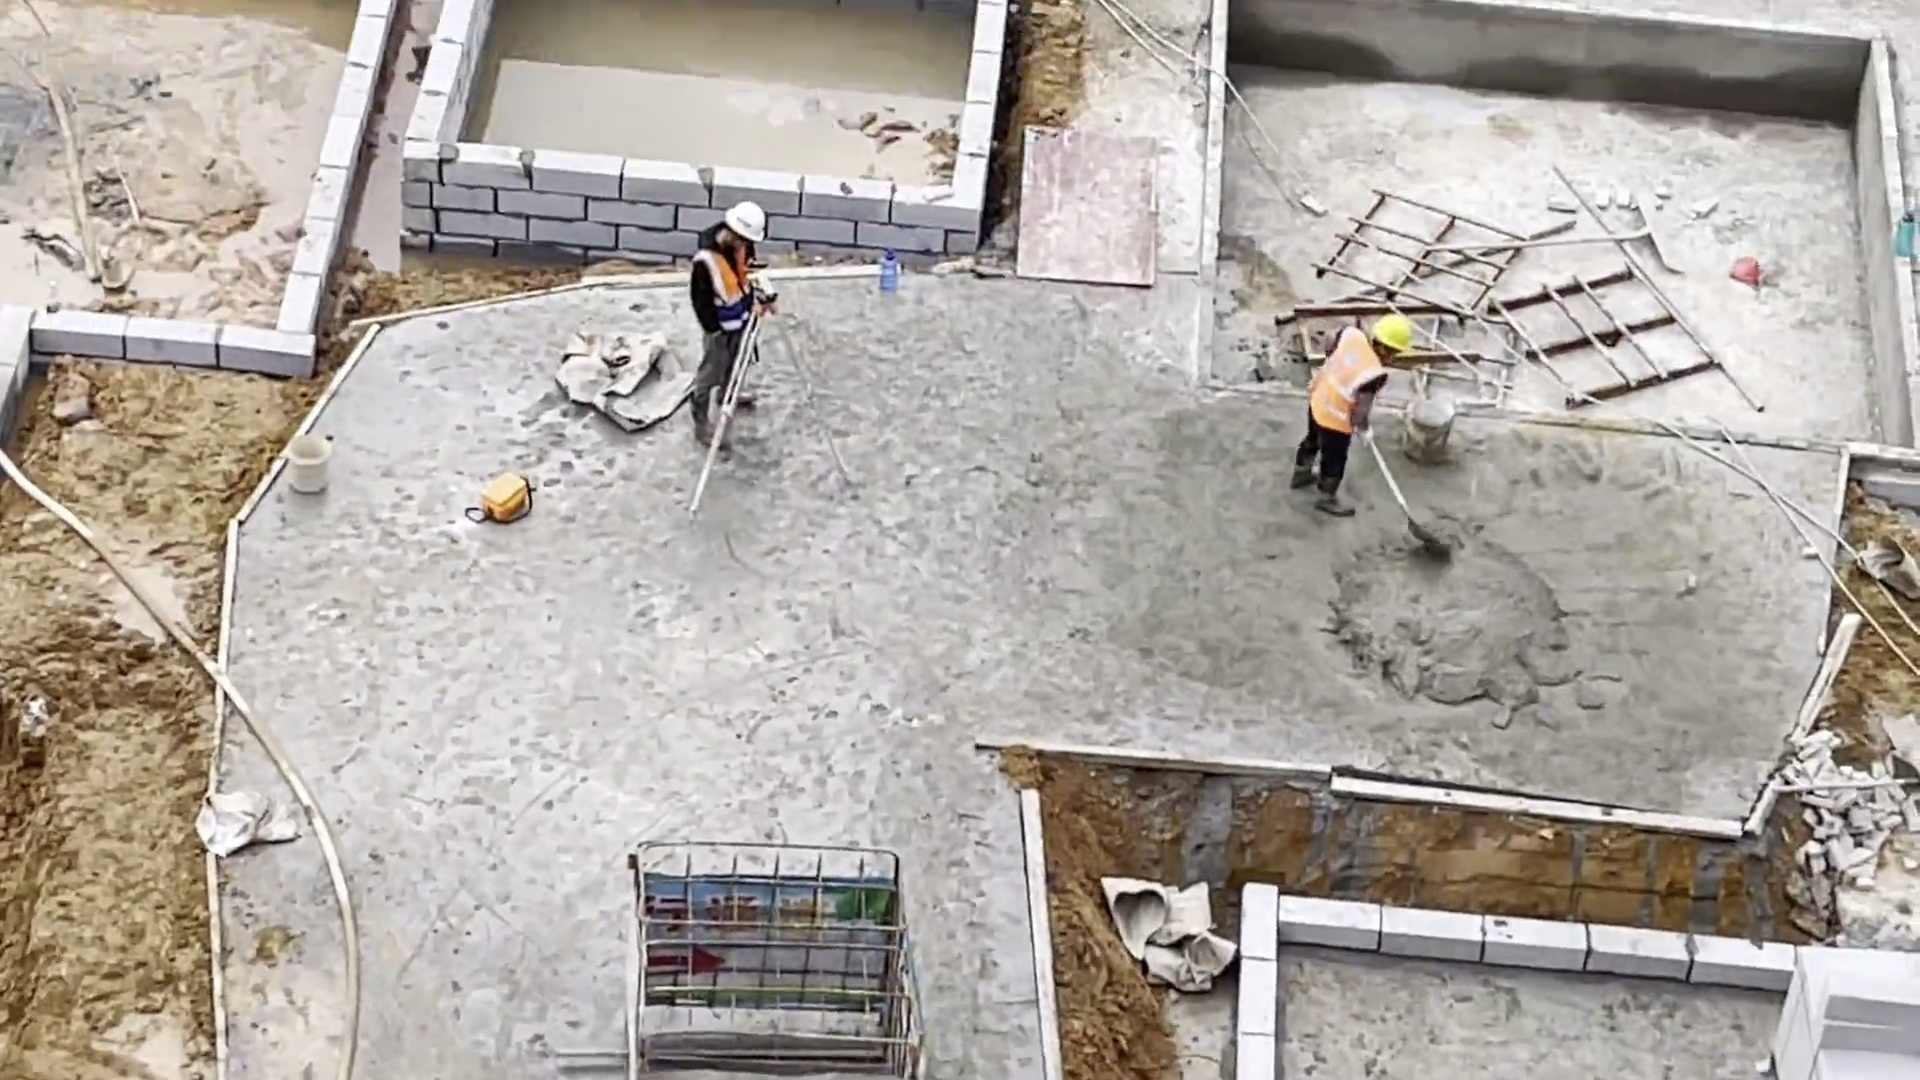brick: (447, 148, 959, 268), (1283, 884, 1772, 986), (275, 4, 384, 316), (7, 304, 310, 377), (1781, 941, 1920, 1079), (417, 1, 465, 229), (950, 10, 996, 216), (1234, 884, 1277, 1080)
helmet: (1369, 310, 1417, 357), (727, 199, 772, 241)
person: (1289, 313, 1413, 518), (691, 199, 765, 449)
vest: (702, 236, 763, 337), (1310, 331, 1370, 430)
